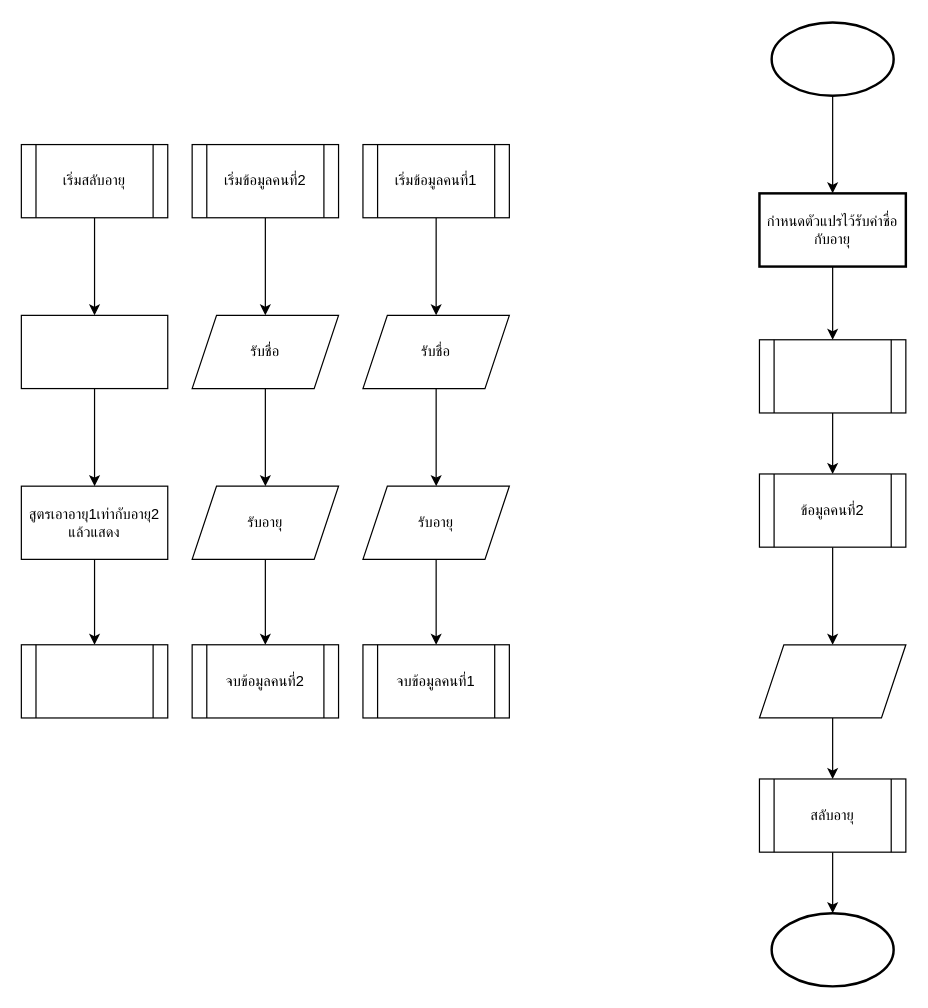
This 928x1008 diagram has some shape labels left out. The box of each missing label's shape, as (x1, y1, x2, y2) in pixels:
กำหนดตัวแปร: (20, 314, 168, 389)
ข้อมูลคนที่1: (758, 339, 906, 413)
จบ: (770, 911, 894, 987)
จบสลับอายุ: (20, 644, 168, 718)
เริ่ม: (770, 21, 894, 96)
แสดงค่า: (758, 644, 906, 718)
